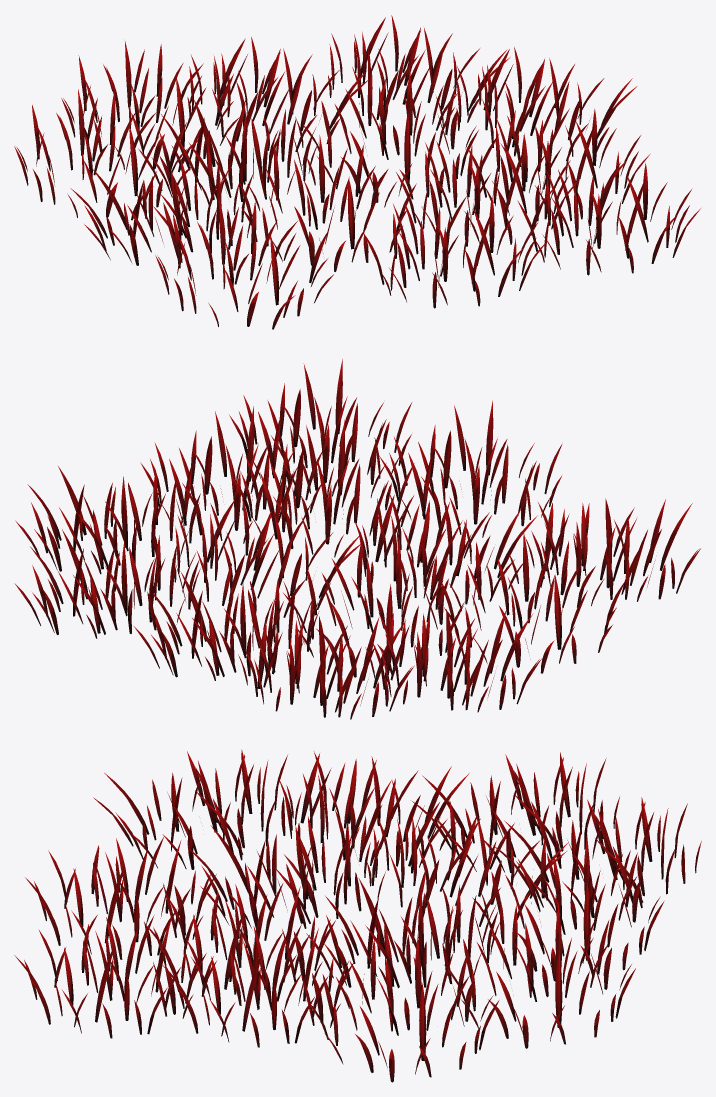
File: grassCoveringLOD1.fbx
3 views of the same model, one above another, from view 1: azimuth 30°, elevation 25°; view 2: azimuth 150°, elevation 25°; view 3: azimuth 270°, elevation 25° (orthographic). The views are drawn at different scales.
Visible parts, largest first — view 1: GrassLOD1; view 2: GrassLOD1; view 3: GrassLOD1.
Boxes of the visible parts, left/top/right/bottom form: GrassLOD1: left=14, top=15, right=700, bottom=329; GrassLOD1: left=14, top=359, right=700, bottom=719; GrassLOD1: left=14, top=749, right=701, bottom=1082.
Bounding box in the file's own units: 1214 × 177 × 1199.
